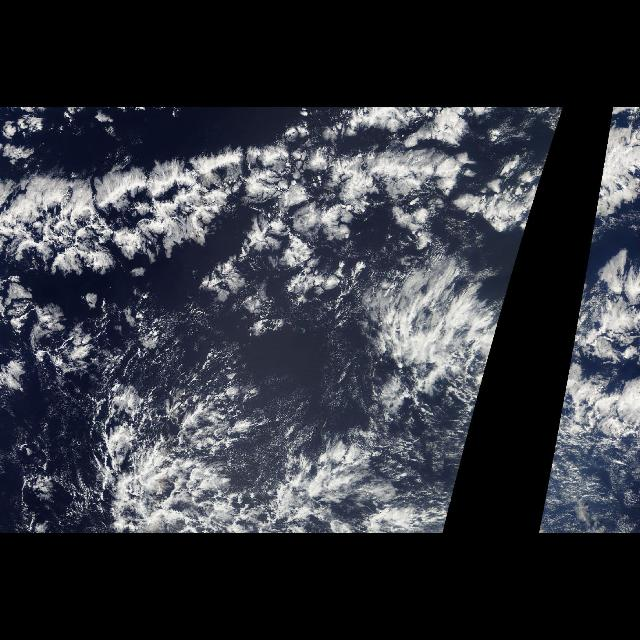Fish: (1, 120, 524, 348)
